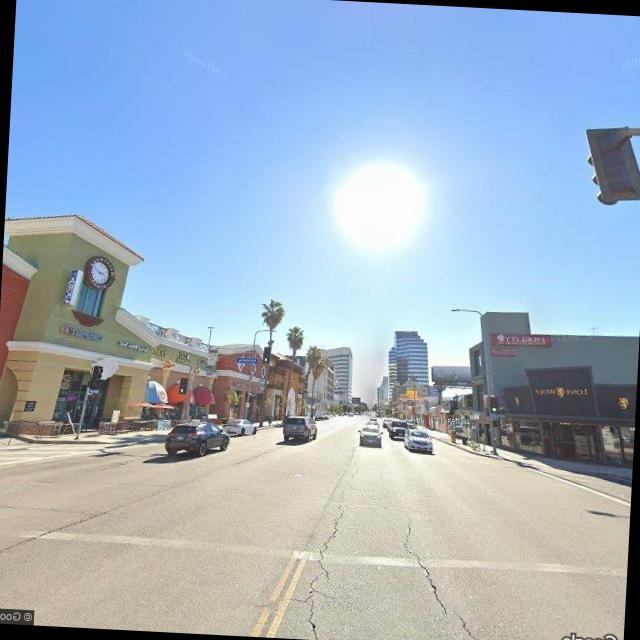pothole: (272, 462, 362, 640), (393, 511, 514, 640)
